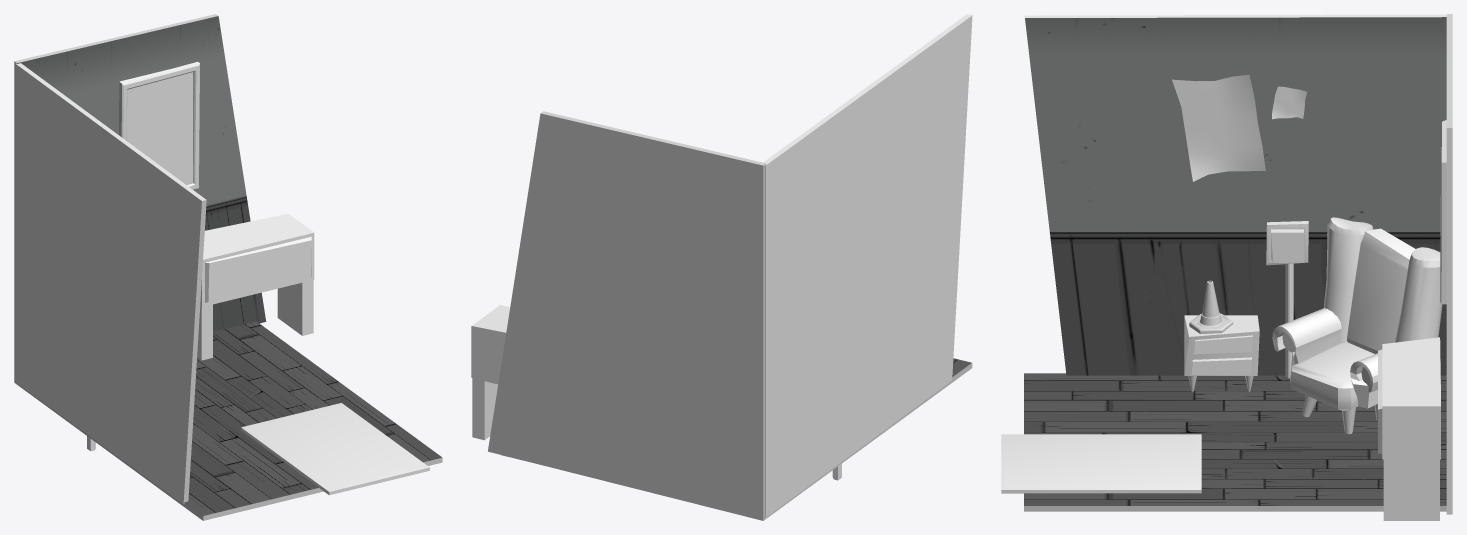
File: 3DMockup.fbx
3 renders of one model, left to right at view 1: azimuth 30°, elevation 25°; view 2: azimuth 150°, elevation 25°; view 3: azimuth 270°, elevation 25°, orthographic. The views are drawn at different scales.
Visible parts, largest first — view 1: Cube.001, Cylinder.001, Cube, Cube.002; view 2: Cube.002, Cube.001, Cylinder.001, Cube; view 3: Cube.001, Cylinder.001, Cube, Plane.001, Cube.002, traffic_cone_01.001.
Boxes of the visible parts, left/top/right/bottom form: Cube.001: left=15, top=63, right=206, bottom=504; Cylinder.001: left=87, top=62, right=429, bottom=495; Cube: left=16, top=321, right=442, bottom=520; Cube.002: left=14, top=14, right=266, bottom=383; Cube.002: left=488, top=111, right=766, bottom=520; Cube.001: left=763, top=14, right=972, bottom=517; Cylinder.001: left=471, top=305, right=841, bottom=480; Cube: left=501, top=358, right=972, bottom=519; Cube.001: left=1025, top=14, right=1446, bottom=375; Cylinder.001: left=1001, top=120, right=1446, bottom=520; Cube: left=1024, top=373, right=1446, bottom=511; Plane.001: left=1172, top=74, right=1306, bottom=181; Cube.002: left=1446, top=14, right=1452, bottom=514; traffic_cone_01.001: left=1189, top=280, right=1233, bottom=334.
Size of what is drawn, in the model's own units: 537 by 640 by 685.
6 materials, 4 textured.
